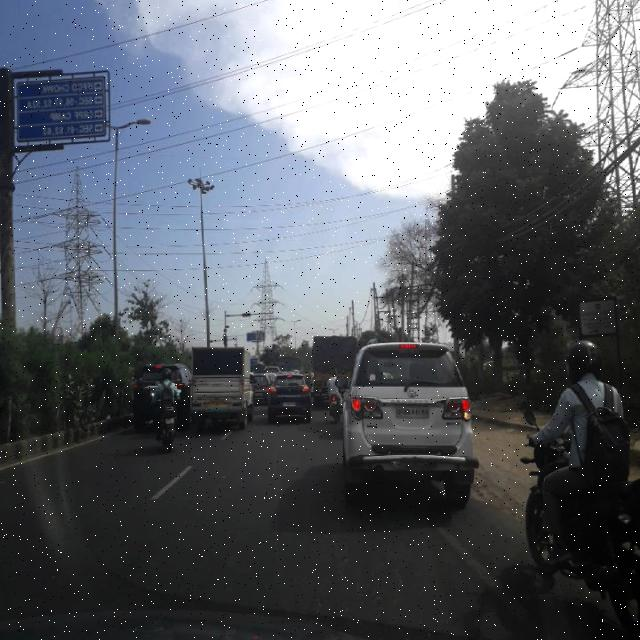D20: (285, 494, 455, 630)
